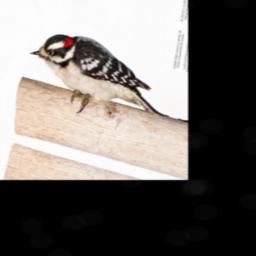Woodpecker: (24, 23, 156, 132)
